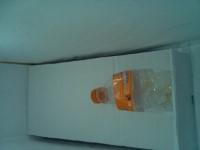bottle: (91, 67, 173, 118)
